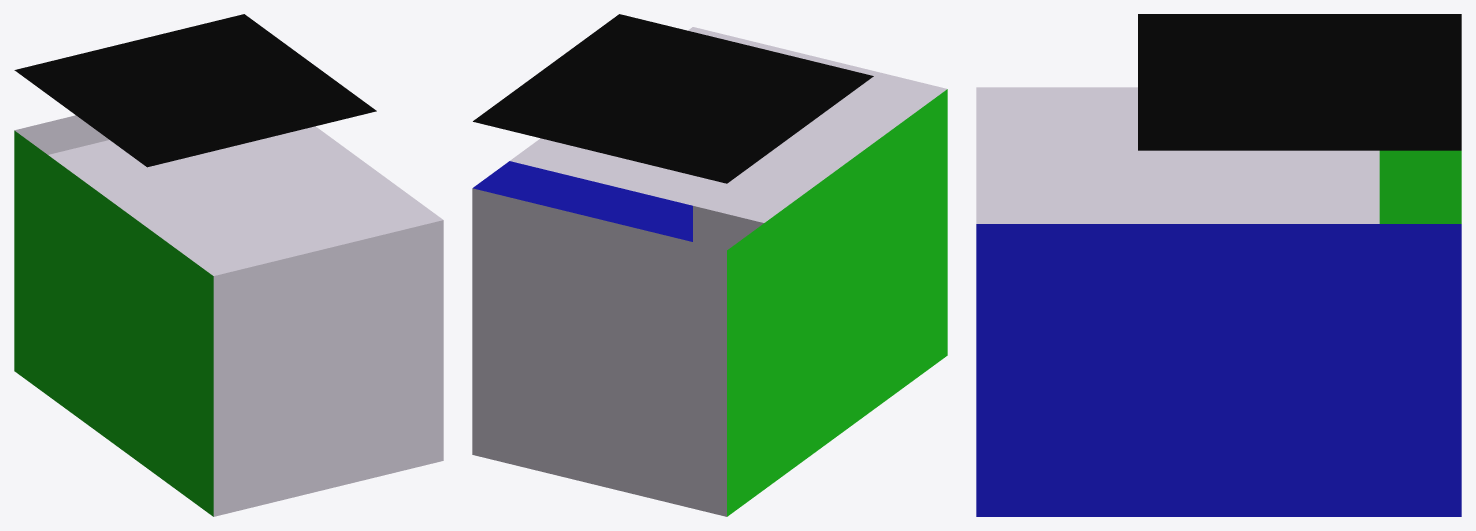
The model's file is cornellbox.obj.
3 views of the same model, side by side, from view 1: azimuth 30°, elevation 25°; view 2: azimuth 150°, elevation 25°; view 3: azimuth 270°, elevation 25° (orthographic). The views are drawn at different scales.
Parts seen in each view (by area): view 1: Box_Cube, Wall0_Cube.001, Lamp_Plane; view 2: Box_Cube, Wall0_Cube.001, Lamp_Plane, Wall1_Cube.002; view 3: Wall1_Cube.002, Lamp_Plane, Box_Cube, Wall0_Cube.001.
Boxes of the visible parts, x1,y1,x2,y2 form: Box_Cube: [15, 115, 443, 516]; Wall0_Cube.001: [14, 130, 213, 516]; Lamp_Plane: [14, 14, 376, 167]; Box_Cube: [472, 27, 946, 516]; Wall0_Cube.001: [727, 89, 947, 516]; Lamp_Plane: [473, 14, 873, 183]; Wall1_Cube.002: [473, 161, 692, 241]; Wall1_Cube.002: [976, 224, 1461, 516]; Lamp_Plane: [1138, 14, 1461, 150]; Box_Cube: [976, 87, 1379, 223]; Wall0_Cube.001: [1379, 150, 1461, 223].
Size of the model in its own units: 2 by 2.5 by 3.
